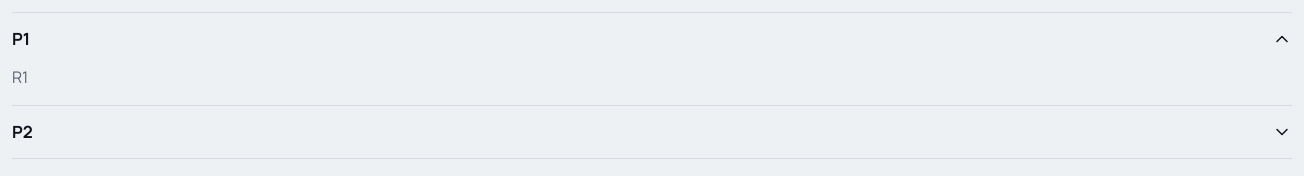
Test: Organismos › FaqAccordion abre la primera pregunta y alterna al hacer clic
The width and height of the screenshot is (1304, 176).
Expected: the text "R1" is shown, [12,66,28,88]
Click the button "P2". click: (22, 132)
box: [12,106,1292,158]
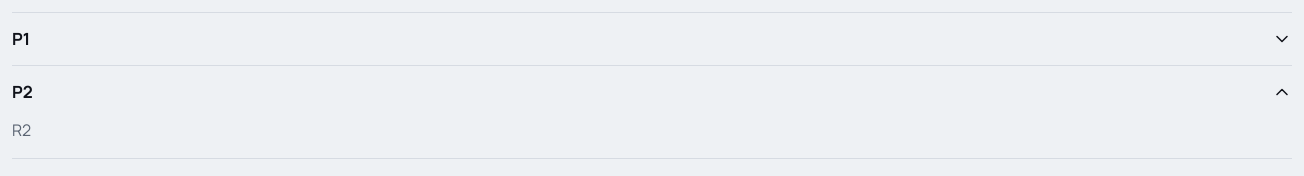
Result: the text "R1" is gone
Result: the button "P2" is expanded at [12,66,1292,118]
